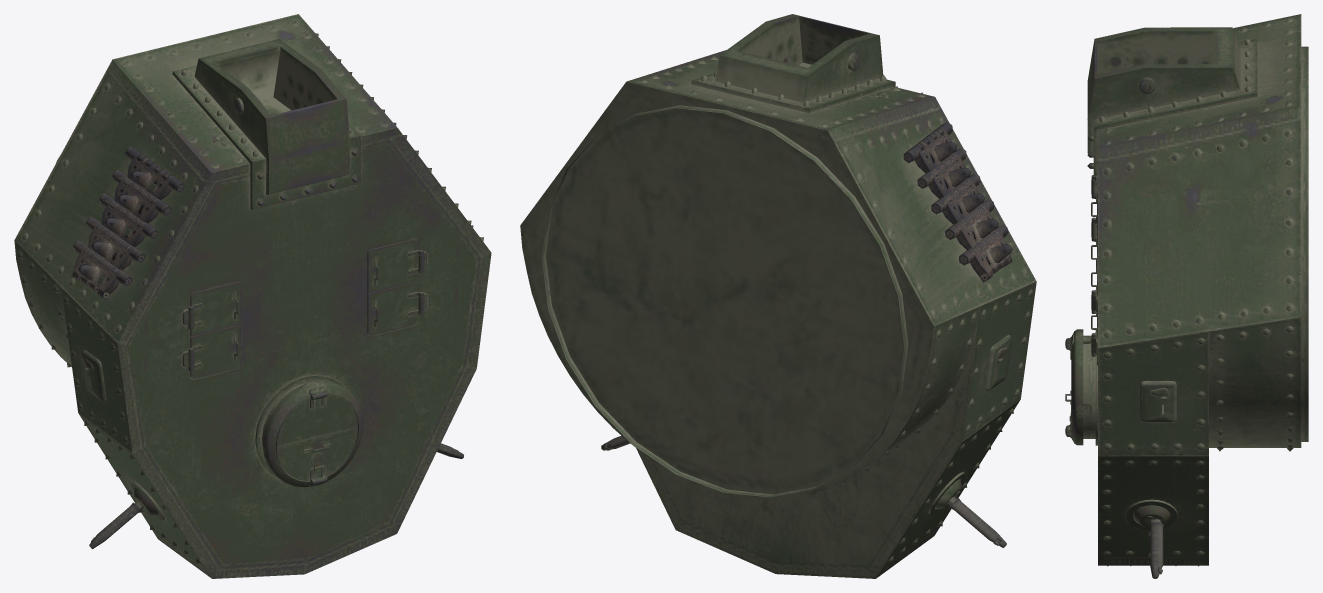
The model's file is Turret_01.glb.
The picture shows the model from 3 angles, left to right: view 1: azimuth 30°, elevation 25°; view 2: azimuth 150°, elevation 25°; view 3: azimuth 270°, elevation 25°; orthographic projection. The views are drawn at different scales.
Parts seen in each view (by area): view 1: set_0_group_0, set_0_group_1; view 2: set_0_group_0, set_0_group_1; view 3: set_0_group_0.
Boxes of the visible parts, left/top/right/bottom form: set_0_group_0: left=14, top=14, right=491, bottom=578; set_0_group_1: left=72, top=146, right=184, bottom=299; set_0_group_0: left=520, top=14, right=1036, bottom=578; set_0_group_1: left=903, top=122, right=1012, bottom=282; set_0_group_0: left=1065, top=14, right=1308, bottom=578.
Size of the model in its own units: 2.83 by 3.34 by 1.5.
2 materials, 2 textured.
